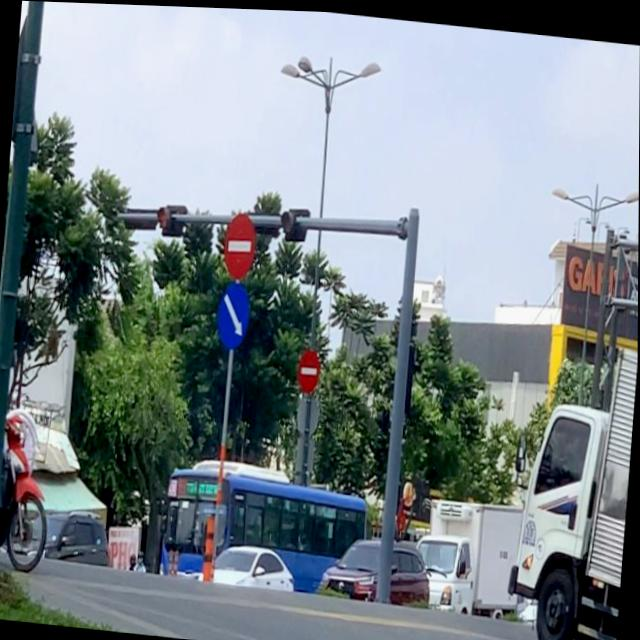Cam di nguoc chieu: (220, 205, 259, 282), (296, 341, 323, 393)
Vong chuong ngai vat sang phai: (214, 275, 252, 352)
